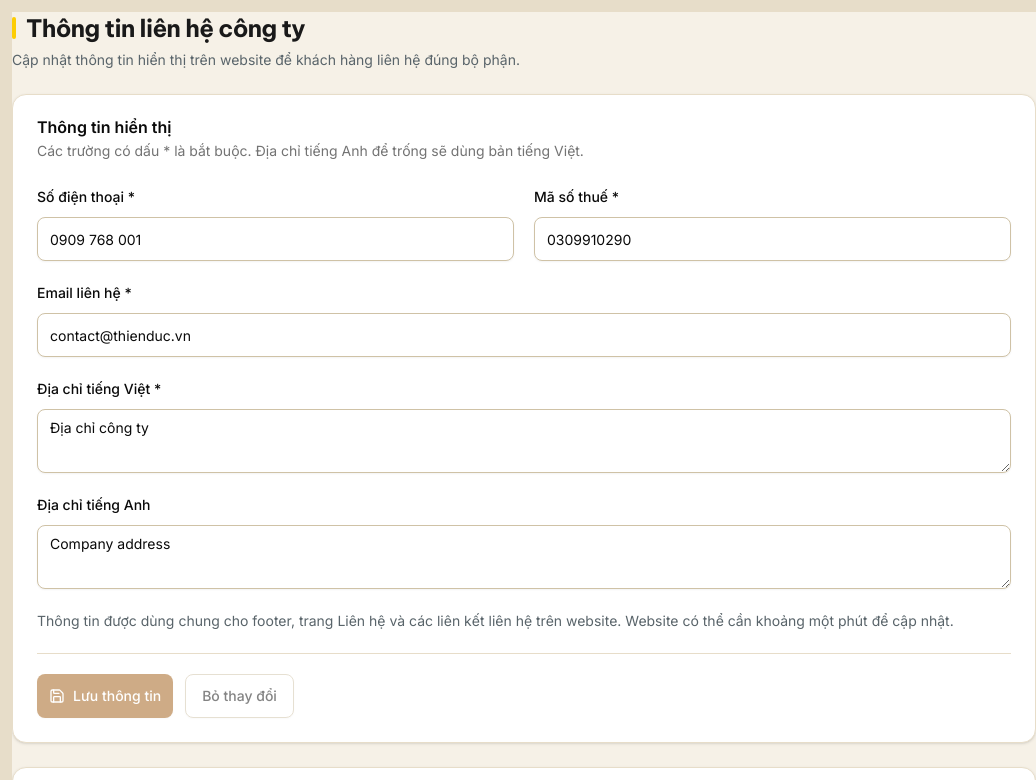
it: Quản lý thông tin liên hệ công ty › đọc dữ liệu, xem trước, lưu dữ liệu đã chuẩn hoá và đánh dấu không còn thay đổi
Expected: the button "Lưu thông tin" is disabled, x1=37 y1=674 x2=173 y2=718
Replace the text in the field labelled "Số điện thoại *" with "028 1234 5678": {"x": 276, "y": 239} x1=37 y1=217 x2=514 y2=261
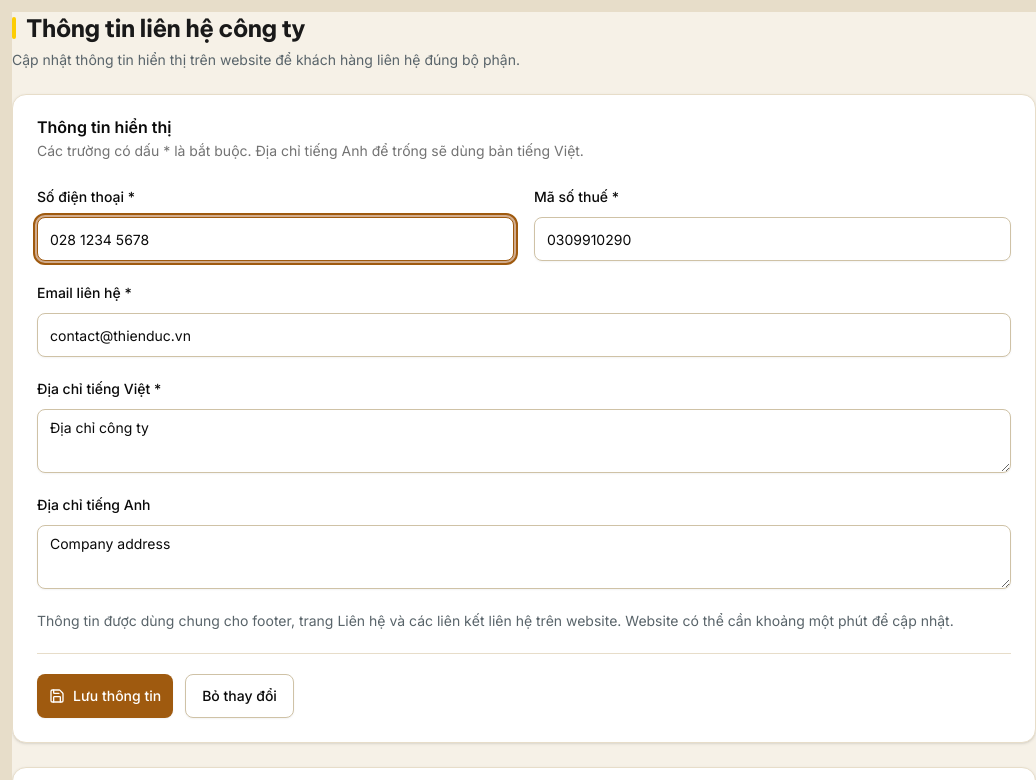
Click the button "Lưu thông tin": {"x": 105, "y": 696} x1=37 y1=674 x2=173 y2=718
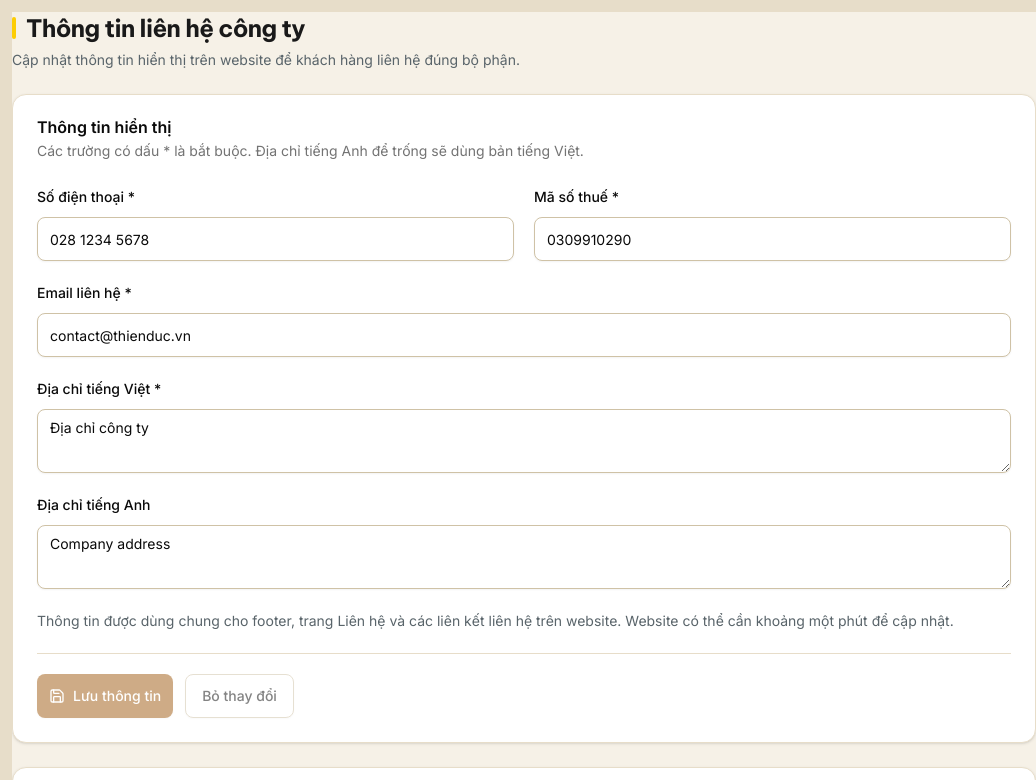
Expected: the button "Lưu thông tin" is disabled, x1=37 y1=674 x2=173 y2=718
